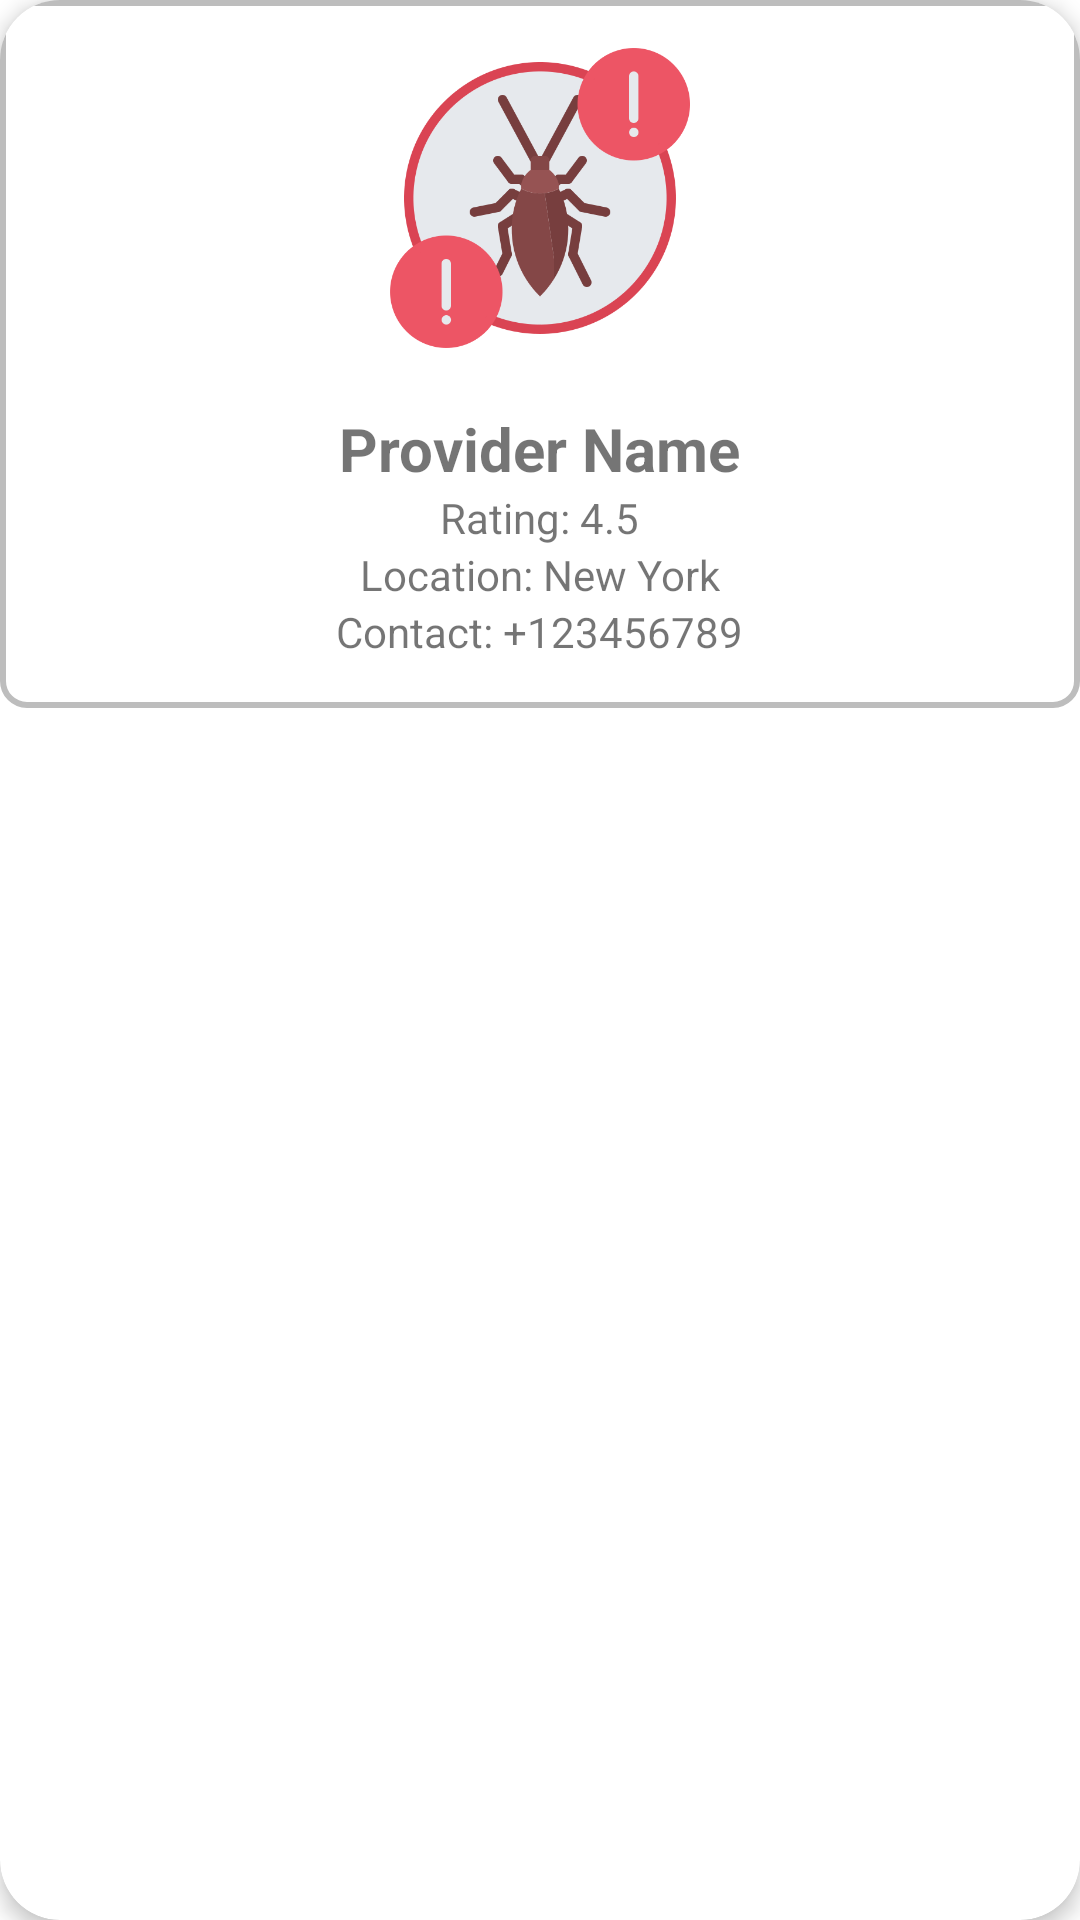

Screen size 1080px x 1920px. Icon name, then its box in pixels as (x1, y1, x2, y2):
pest: (390, 48, 690, 348)
